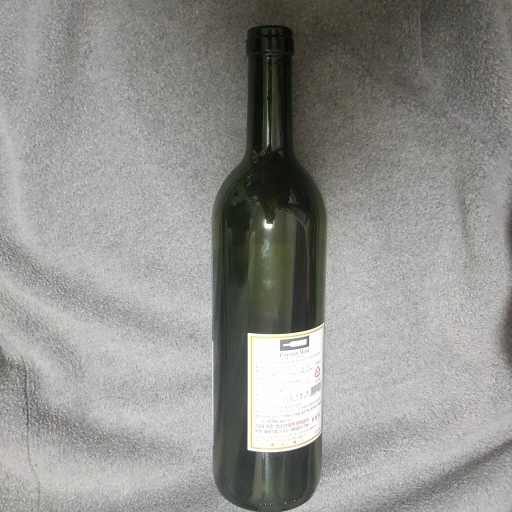Glass_2: (202, 25, 331, 512)
